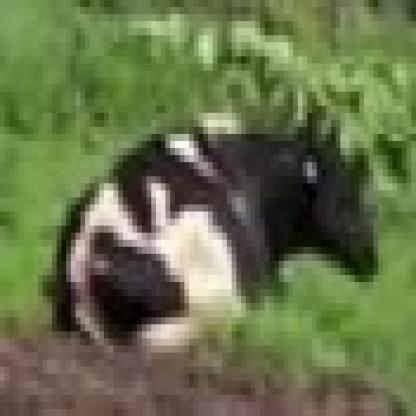cow: (54, 116, 380, 349)
